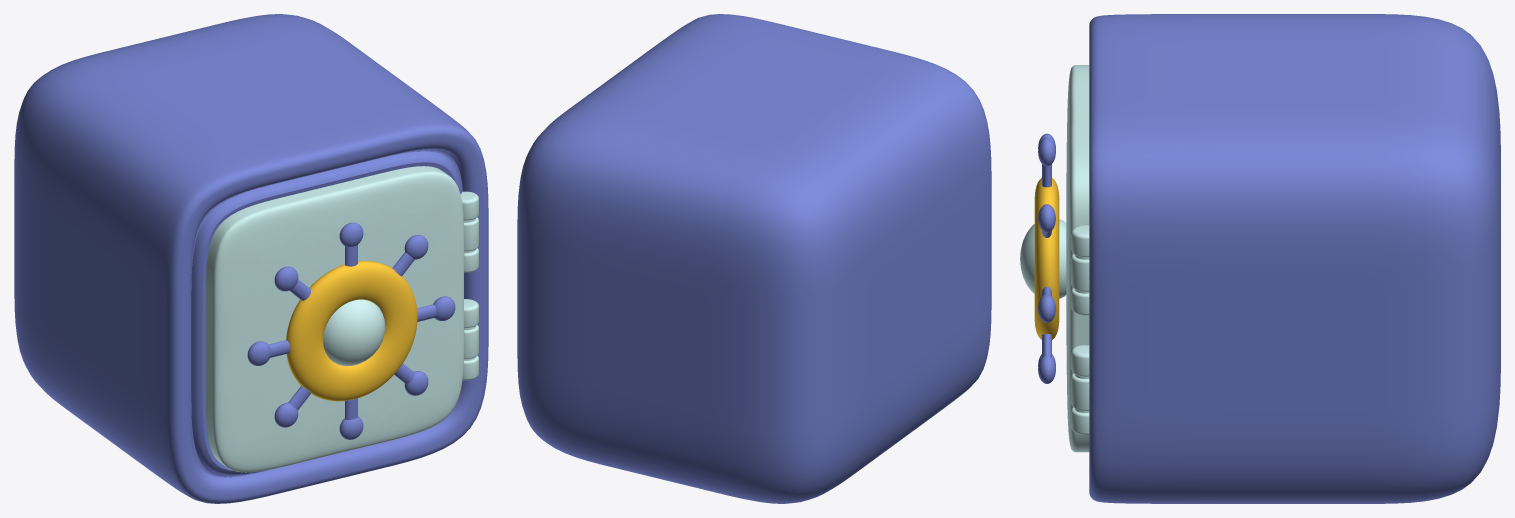
Rendered from vault.glb.
3 renders of one model, left to right at view 1: azimuth 30°, elevation 25°; view 2: azimuth 150°, elevation 25°; view 3: azimuth 270°, elevation 25°, orthographic. The views are drawn at different scales.
Parts seen in each view (by area): view 1: Cube.001, Cube.002, Circle, Sphere.001, Sphere; view 2: Cube.001; view 3: Cube.001, Cube.002, Circle, Sphere.001, Sphere.
Part boxes in pixels (x1,y1,x2,y2): Cube.001: (14,14,488,503); Cube.002: (206,166,478,472); Circle: (286,261,417,401); Sphere.001: (247,222,455,439); Sphere: (323,299,385,366); Cube.001: (517,14,991,503); Cube.001: (1089,14,1500,503); Cube.002: (1066,65,1089,452); Circle: (1034,178,1059,339); Sphere.001: (1038,133,1055,383); Sphere: (1020,219,1066,298).
Size of the model in its own units: 2.06 by 2.06 by 2.41.
